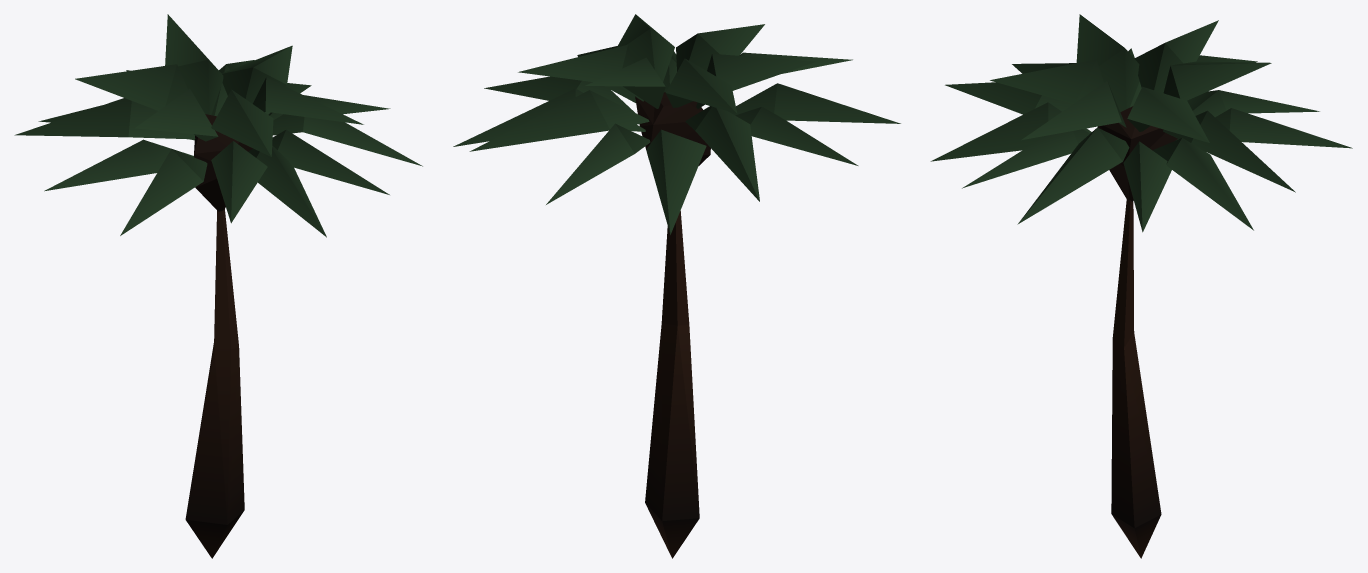
Rendered from c_tree_palm_ab.fbx.
3 views of the same model, side by side, from view 1: azimuth 30°, elevation 25°; view 2: azimuth 150°, elevation 25°; view 3: azimuth 270°, elevation 25° (orthographic). The views are drawn at different scales.
Parts seen in each view (by area): view 1: c_tree_palm_ab; view 2: c_tree_palm_ab; view 3: c_tree_palm_ab.
Boxes of the visible parts, bbox=[...] form: c_tree_palm_ab: bbox=[14, 14, 422, 558]; c_tree_palm_ab: bbox=[453, 14, 900, 558]; c_tree_palm_ab: bbox=[930, 14, 1352, 558].
Bounding box in the file's own units: 7.45 × 9.94 × 7.55.
